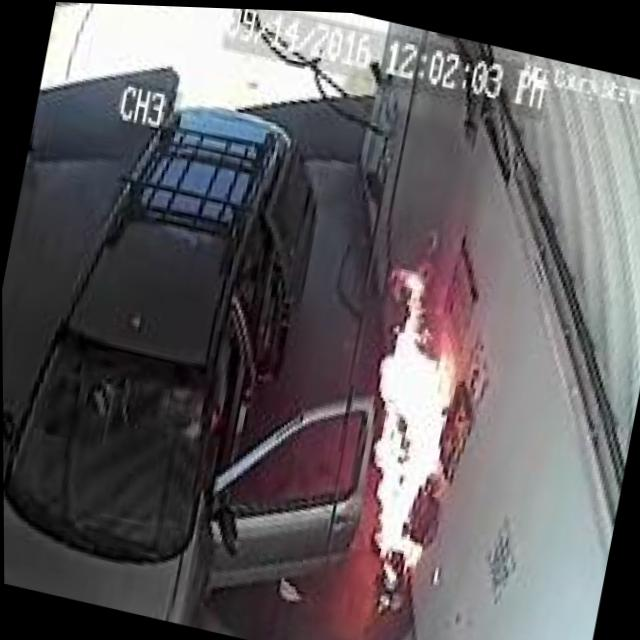fire: (325, 246, 515, 610)
